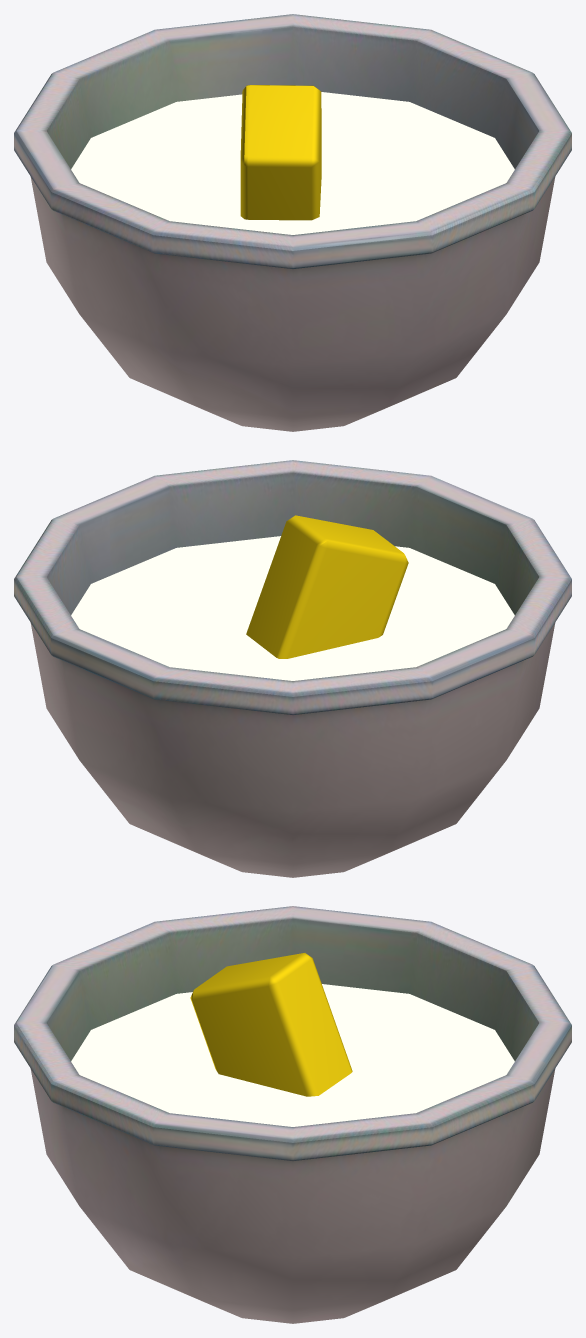
Rendered from mixingBowlButtered.gltf.
3 views of the same model, one above another, from view 1: azimuth 30°, elevation 25°; view 2: azimuth 150°, elevation 25°; view 3: azimuth 270°, elevation 25° (orthographic).
Parts seen in each view (by area): view 1: MixingBowl, Cylinder, Butter; view 2: MixingBowl, Cylinder, Butter; view 3: MixingBowl, Cylinder, Butter.
Part boxes in pixels (bbox=[...]): MixingBowl: bbox=[14, 14, 571, 431]; Cylinder: bbox=[71, 92, 514, 234]; Butter: bbox=[240, 85, 321, 220]; MixingBowl: bbox=[14, 460, 571, 877]; Cylinder: bbox=[71, 536, 514, 680]; Butter: bbox=[246, 515, 408, 658]; MixingBowl: bbox=[14, 906, 571, 1323]; Cylinder: bbox=[71, 984, 514, 1126]; Butter: bbox=[190, 953, 352, 1096].
Size of the model in its own units: 0.3931 by 0.2541 by 0.3931.
Materials: 3 (3 with a texture image).
